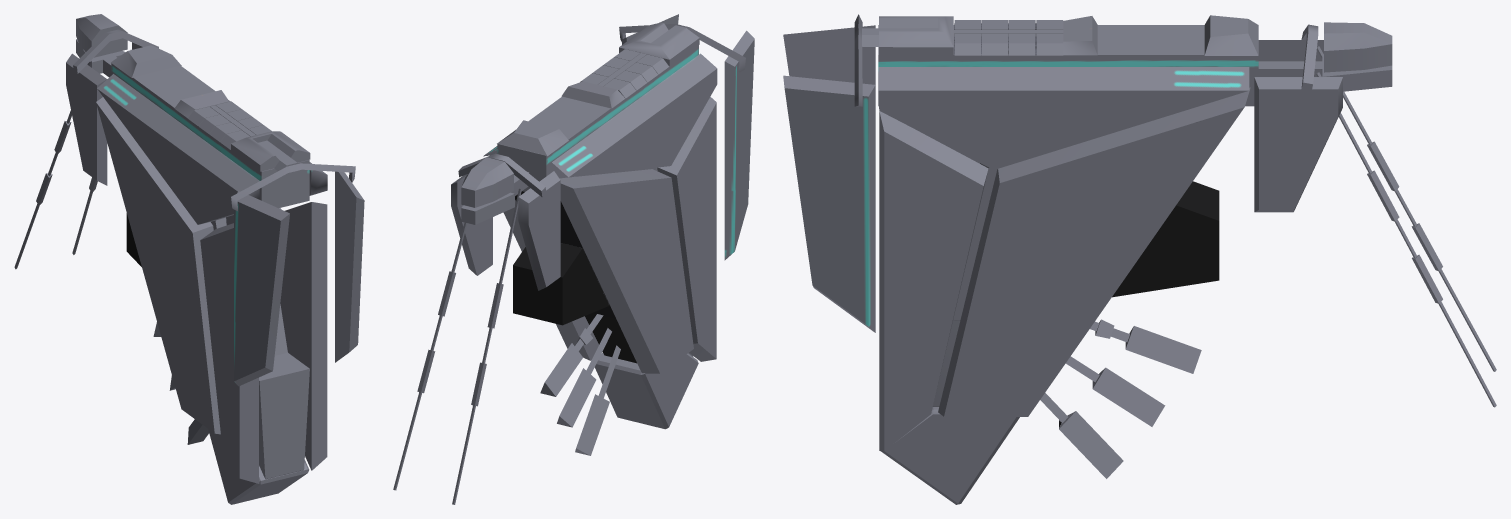
Rendered from BattleshipEnemy_Model_Body.obj.
3 renders of one model, left to right at view 1: azimuth 30°, elevation 25°; view 2: azimuth 150°, elevation 25°; view 3: azimuth 270°, elevation 25°, orthographic. The views are drawn at different scales.
Parts seen in each view (by area): view 1: Battleship_Body_Mesh Battleship_Body_grp; view 2: Battleship_Body_Mesh Battleship_Body_grp; view 3: Battleship_Body_Mesh Battleship_Body_grp.
Boxes of the visible parts, left/top/right/bottom form: Battleship_Body_Mesh Battleship_Body_grp: left=14, top=14, right=364, bottom=504; Battleship_Body_Mesh Battleship_Body_grp: left=393, top=14, right=754, bottom=504; Battleship_Body_Mesh Battleship_Body_grp: left=783, top=14, right=1496, bottom=504.
Size of the model in its own units: 141 by 398 by 553.
1 material, 1 textured.
